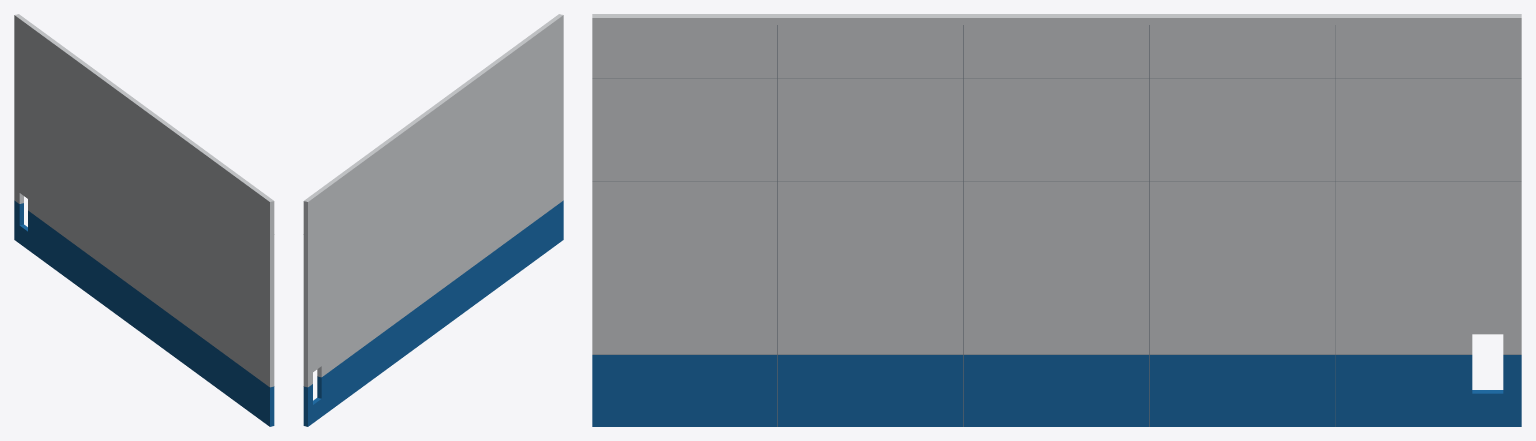
File: SM_MPR_CAD_Facade_07_20261112.fbx
3 renders of one model, left to right at view 1: azimuth 30°, elevation 25°; view 2: azimuth 150°, elevation 25°; view 3: azimuth 270°, elevation 25°, orthographic. The views are drawn at different scales.
Visible parts, largest first — view 1: SM_MPR_CAD_Facade_07_20261112; view 2: SM_MPR_CAD_Facade_07_20261112; view 3: SM_MPR_CAD_Facade_07_20261112.
Part boxes in pixels (bbox=[...]): SM_MPR_CAD_Facade_07_20261112: bbox=[14, 14, 274, 426]; SM_MPR_CAD_Facade_07_20261112: bbox=[303, 14, 563, 426]; SM_MPR_CAD_Facade_07_20261112: bbox=[592, 14, 1521, 426].
Bounding box in the file's own units: 31.44 × 3048 × 1480.
